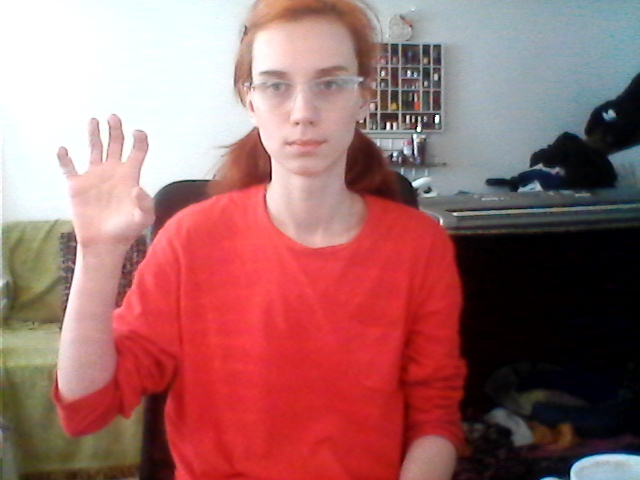budova: (52, 112, 163, 260)
